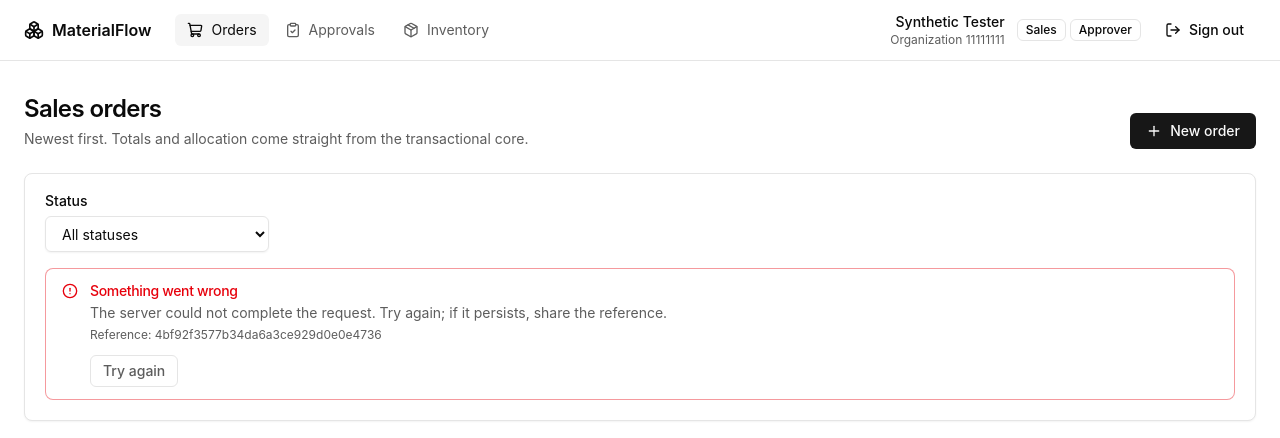
OrderListPage › offers a retry for server errors and shows the trace reference
The width and height of the screenshot is (1280, 438).
Check: the message shows "Something went wrong", box [90, 282, 238, 299]
Check: the message shows "Reference: 4bf92f3577b34da6a3ce929d0e0e4736", box [45, 268, 1235, 400]
Click the button "Try again".
click(134, 371)  # box [90, 355, 178, 387]
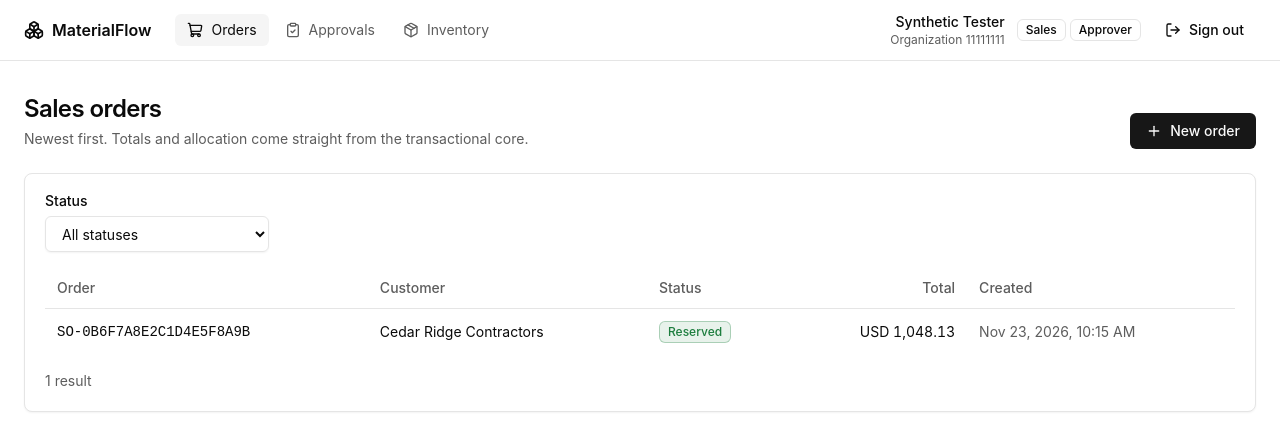
Check: the table named "Sales orders" is shown, box [45, 268, 1235, 354]
